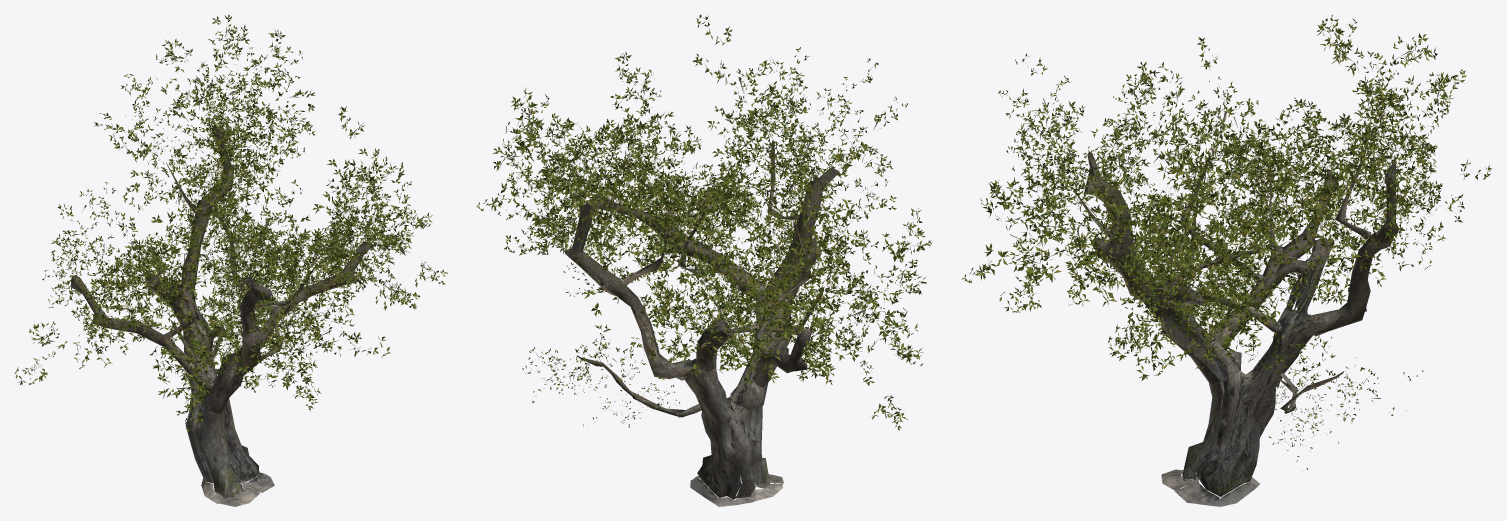
The model's file is orchard-tree-medium.glb.
3 views of the same model, side by side, from view 1: azimuth 30°, elevation 25°; view 2: azimuth 150°, elevation 25°; view 3: azimuth 270°, elevation 25° (orthographic). The views are drawn at different scales.
Visible parts, largest first — view 1: Orchard_leaves_medium, Orchard_trunk_medium, Orchard_branches_medium; view 2: Orchard_leaves_medium, Orchard_trunk_medium, Orchard_branches_medium; view 3: Orchard_leaves_medium, Orchard_trunk_medium, Orchard_branches_medium.
Boxes of the visible parts, x1=… form: Orchard_leaves_medium: x1=14, y1=14, x2=447, y2=431; Orchard_trunk_medium: x1=70, y1=126, x2=373, y2=506; Orchard_branches_medium: x1=38, y1=30, x2=437, y2=420; Orchard_leaves_medium: x1=476, y1=14, x2=932, y2=430; Orchard_trunk_medium: x1=564, y1=140, x2=839, y2=506; Orchard_branches_medium: x1=494, y1=25, x2=921, y2=422; Orchard_leaves_medium: x1=962, y1=14, x2=1491, y2=469; Orchard_trunk_medium: x1=1071, y1=146, x2=1398, y2=506; Orchard_branches_medium: x1=976, y1=32, x2=1479, y2=472.
Size of the model in its own units: 4.74 by 5.02 by 4.81.
Materials: 3 (3 with a texture image).
